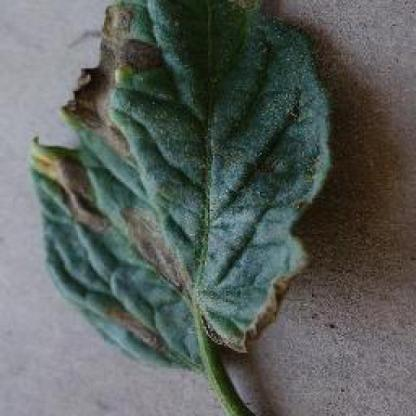Tomato_Blight: (32, 0, 332, 365)
